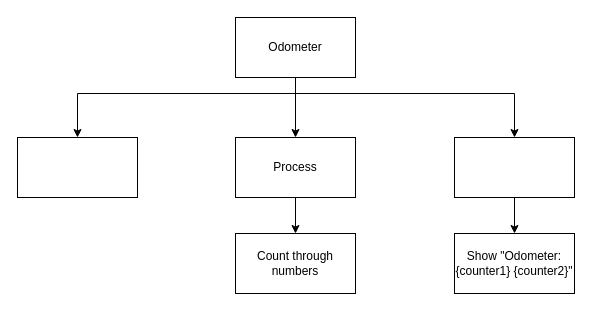
The diagram is 592 pixels wide and 311 high, and some of its shapes have lost their labels. The shapes that lost their labels are listed below. From the top down, each one's centre as x and y in pixels, then its label:
point 77,167: Input
point 514,167: Output
